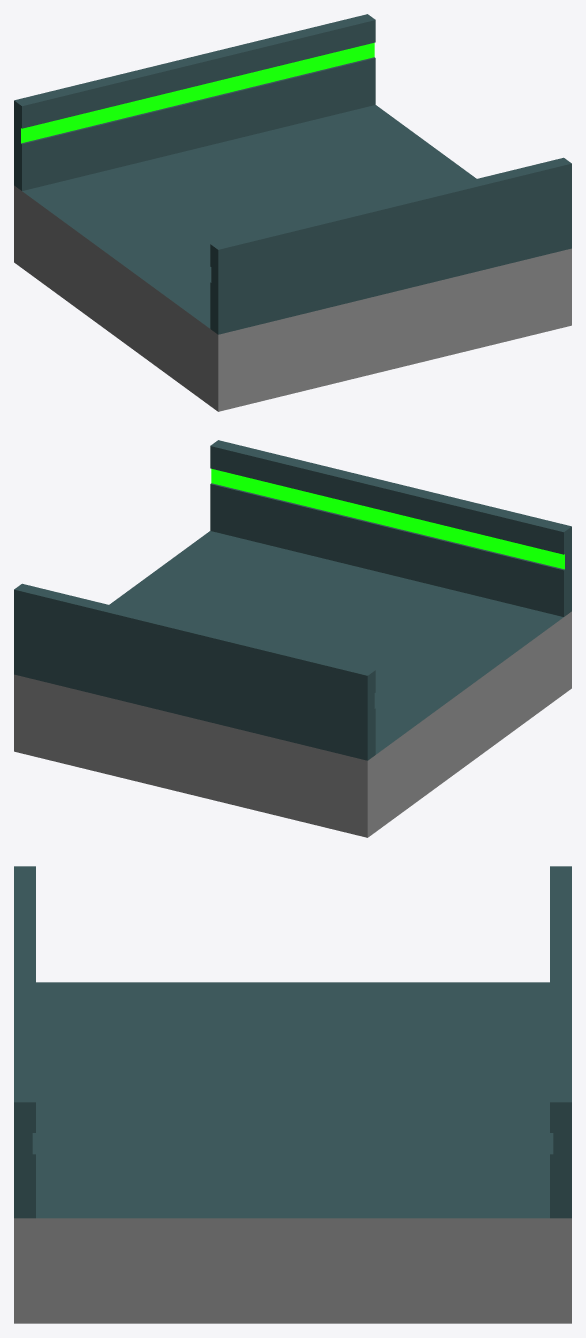
Rendered from Stairs_03_Platform_C.FBX.
3 renders of one model, top to bottom at view 1: azimuth 30°, elevation 25°; view 2: azimuth 150°, elevation 25°; view 3: azimuth 270°, elevation 25°, orthographic. The views are drawn at different scales.
Visible parts, largest first — view 1: Stairs_03_Platform_C_LOD0; view 2: Stairs_03_Platform_C_LOD0; view 3: Stairs_03_Platform_C_LOD0.
Boxes of the visible parts, <box> form: Stairs_03_Platform_C_LOD0: <box>14,14,571,411</box>; Stairs_03_Platform_C_LOD0: <box>14,440,571,837</box>; Stairs_03_Platform_C_LOD0: <box>14,866,571,1323</box>.
Size of what is drawn, in the model's own units: 180 by 78.78 by 180.
